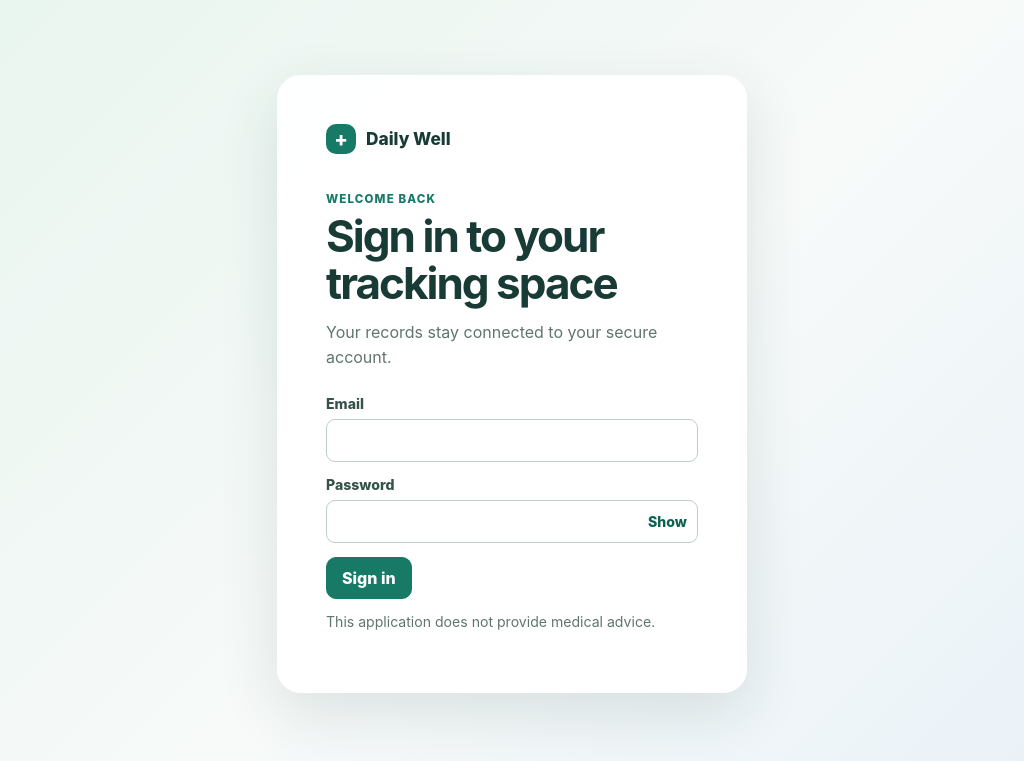
Test case: Phase 9 authentication flow › logs in and reaches the protected dashboard
The width and height of the screenshot is (1024, 761).
Type "owner@example.com" into the field labelled "Email" at (512, 440), box x1=326 y1=419 x2=698 y2=462
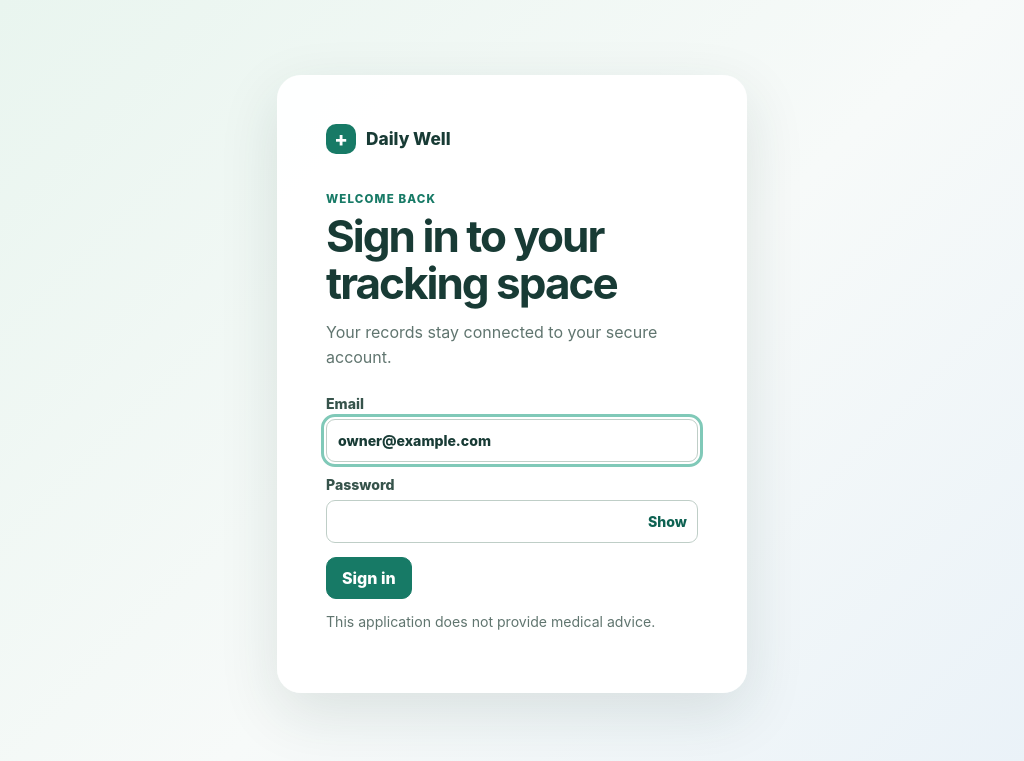
Type "safe password" into the password field labelled "Password" at (512, 522), box x1=326 y1=500 x2=698 y2=543
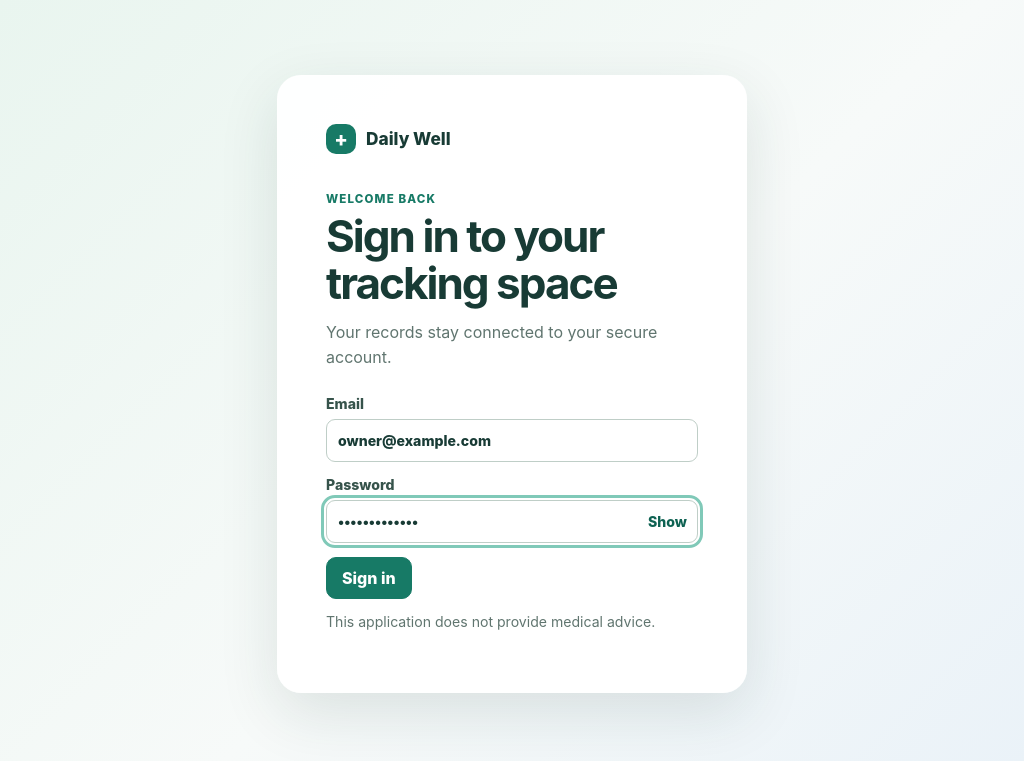
Click the button "Sign in" at (369, 578), box x1=326 y1=557 x2=412 y2=599
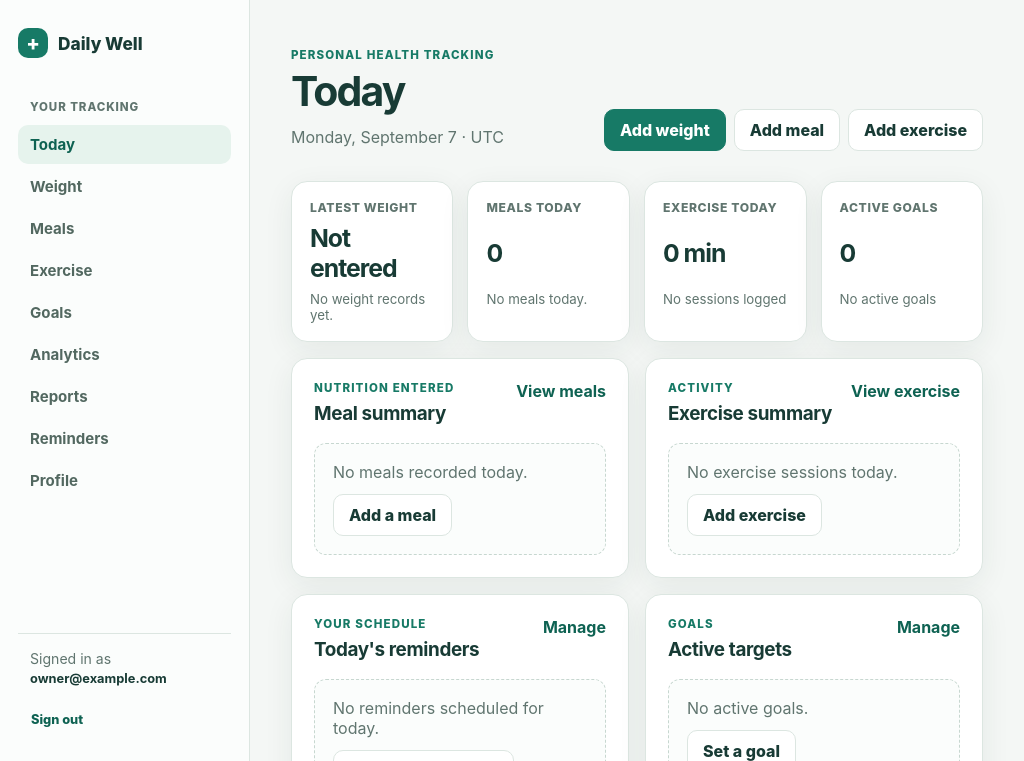
Check: the heading "Today" is shown, box x1=291 y1=66 x2=405 y2=116
